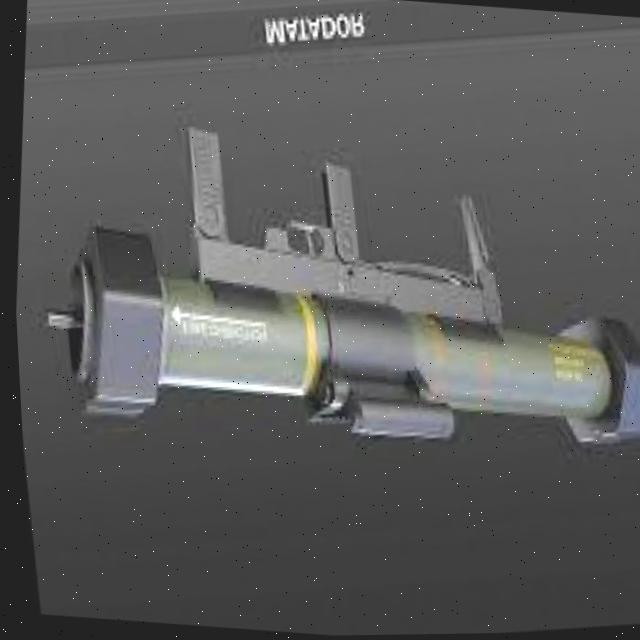rocket: (2, 48, 640, 532)
